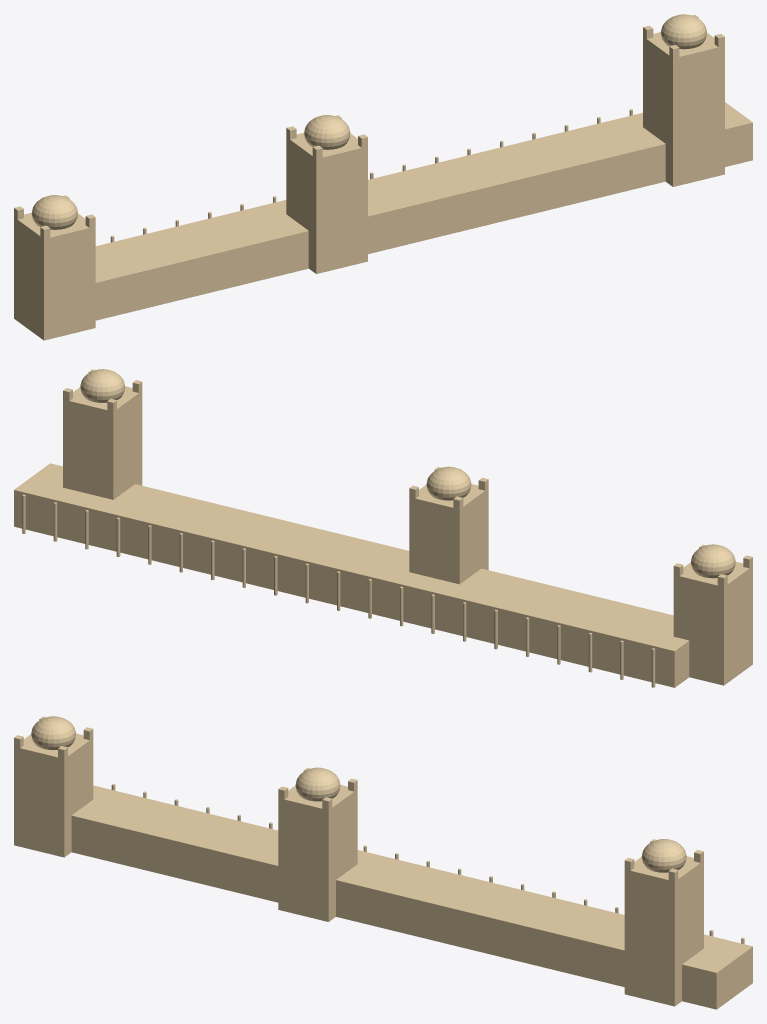
The model's file is SM_DV_07_Arabian_pit_building_arches_towers_and_domes_cream.fbx.
3 renders of one model, top to bottom at view 1: azimuth 30°, elevation 25°; view 2: azimuth 150°, elevation 25°; view 3: azimuth 330°, elevation 25°, orthographic. The views are drawn at different scales.
Visible parts, largest first — view 1: 07 Arabian pit building arches towers and domes | cream; view 2: 07 Arabian pit building arches towers and domes | cream; view 3: 07 Arabian pit building arches towers and domes | cream.
Part boxes in pixels (x1,y1,x2,y2): 07 Arabian pit building arches towers and domes | cream: (14, 14, 752, 340); 07 Arabian pit building arches towers and domes | cream: (14, 369, 752, 687); 07 Arabian pit building arches towers and domes | cream: (14, 716, 752, 1009).
Bounding box in the file's own units: 11050 × 1345 × 2250.
